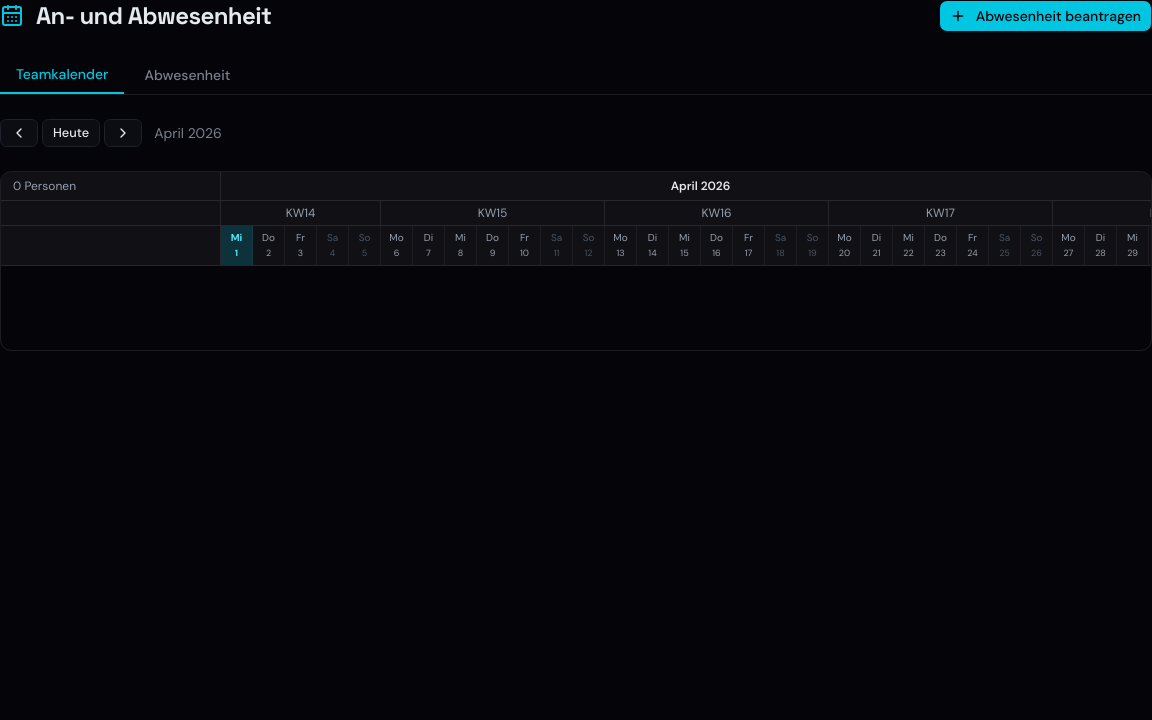
Test case: AbsencesPage › opens modal when request button clicked
The image size is (1152, 720).
Click the button "Abwesenheit beantragen". click: {"x": 1045, "y": 16}
box: [939, 0, 1151, 32]
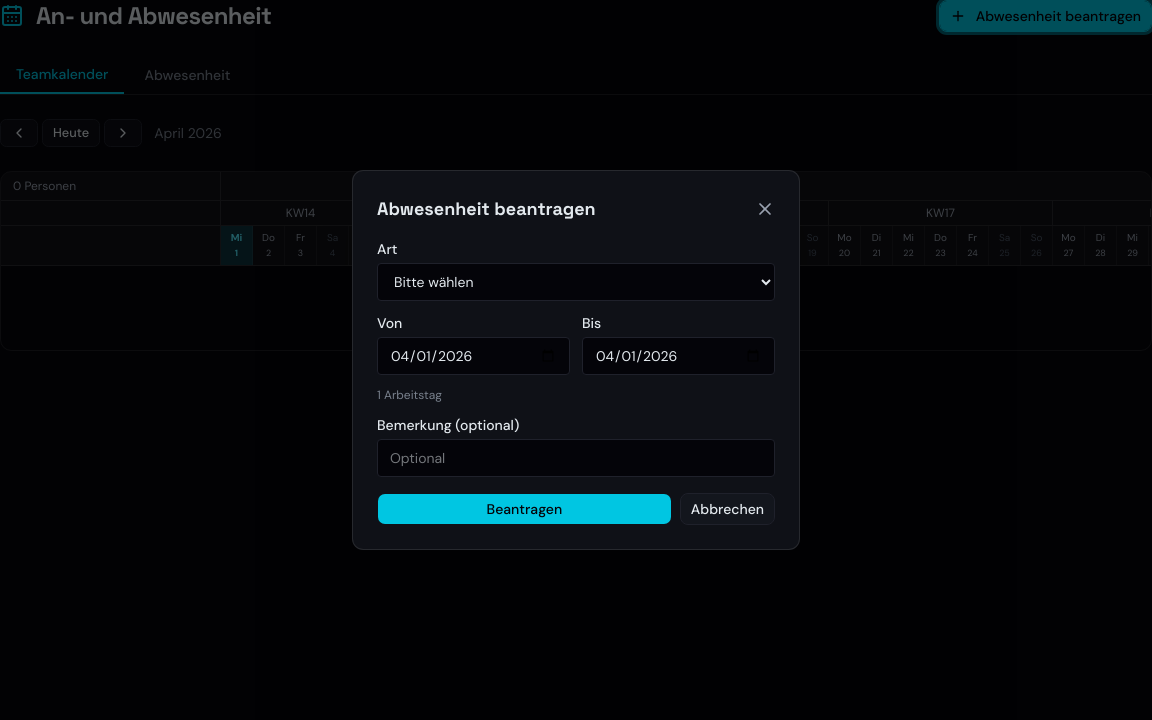
Expected: the heading "Abwesenheit beantragen" is shown, [377, 195, 596, 223]
